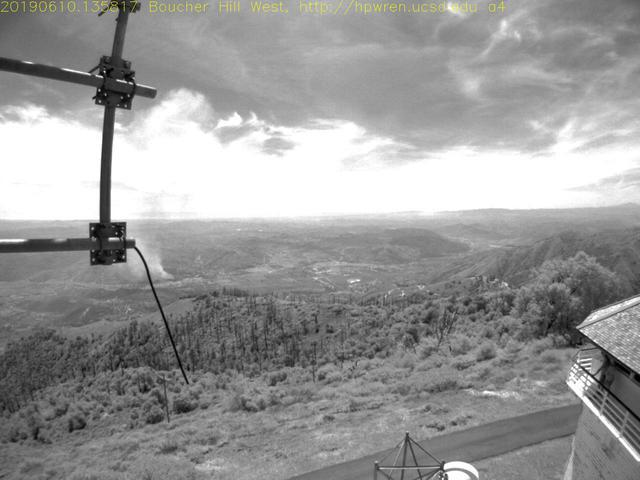smoke: (127, 201, 182, 285)
